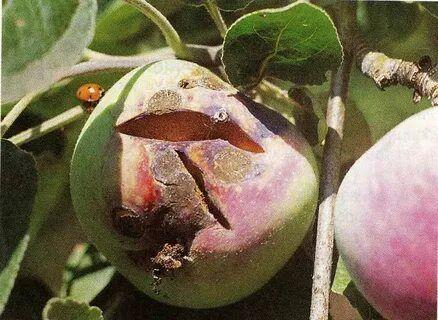Apple: (70, 60, 322, 309)
